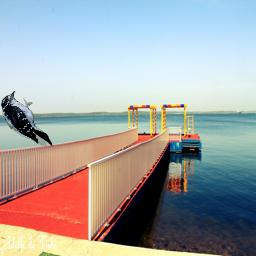Woodpecker: (0, 91, 53, 146)
